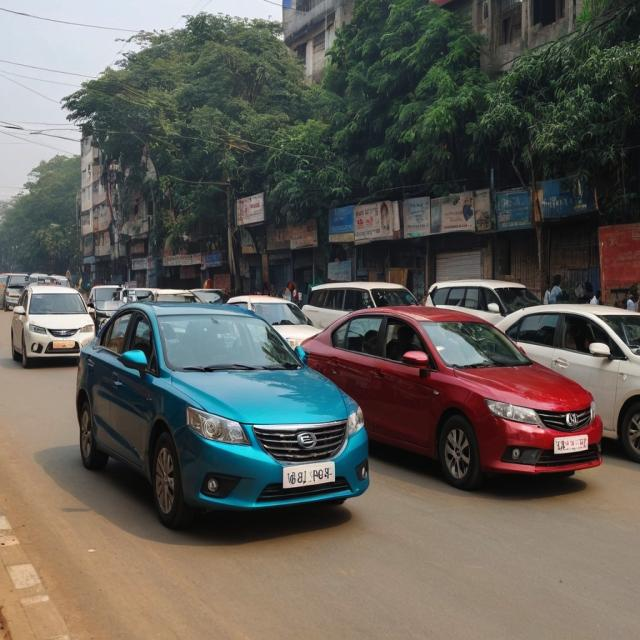blue: (76, 302, 370, 538)
red: (298, 300, 606, 479)
white: (462, 307, 640, 477), (12, 289, 92, 366)
